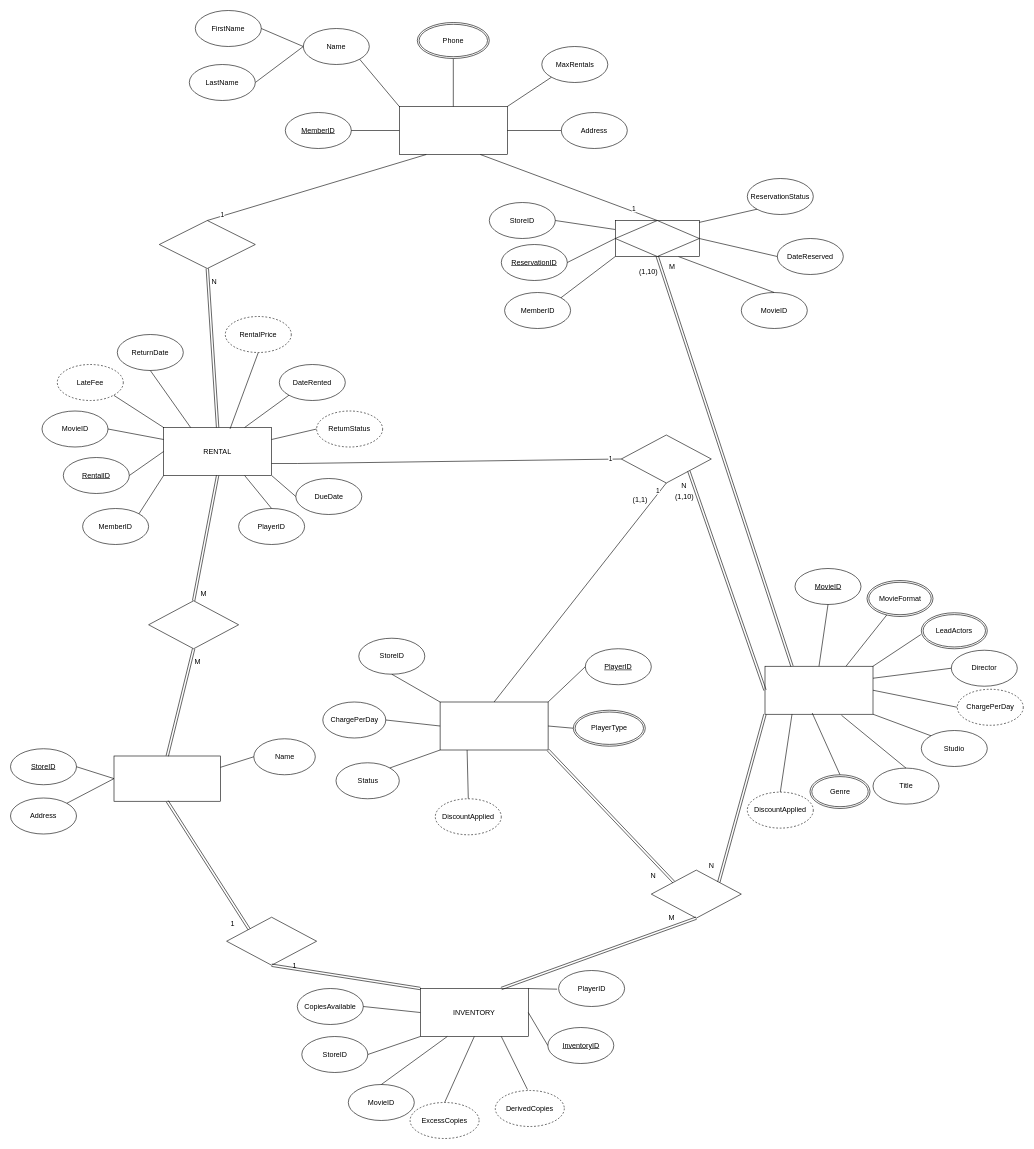
Image size: 1034x1149. Some labels were removed from this diagram. The shapes that lost their labels are listed below. From the top down, each one's centre as x and y in pixels, then its label:
At point 453,130: "MEMBER".
At point 207,244: "RENTS".
At point 657,238: "RESERVES".
At point 666,458: "INCLUDES".
At point 193,624: "FROM".
At point 818,690: "MOVIE".
At point 494,725: "PLAYER".
At point 166,778: "STORE".
At point 696,894: "TRACKS".
At point 271,941: "MANAGES".
